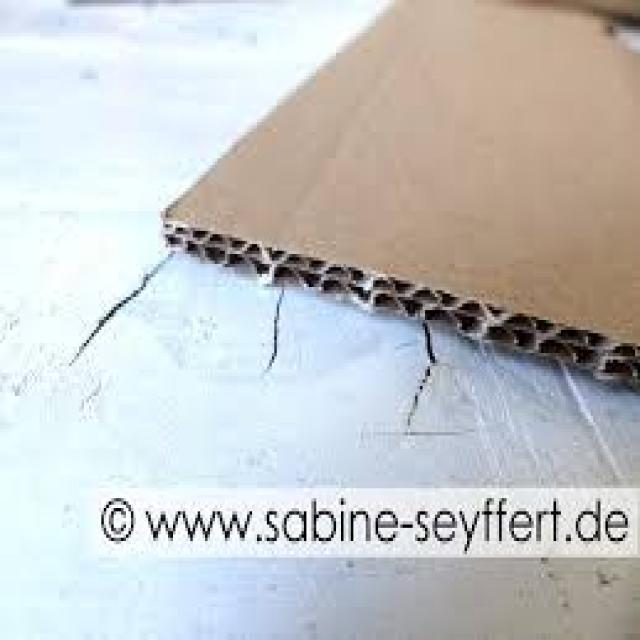cardboard: (161, 0, 638, 386)
